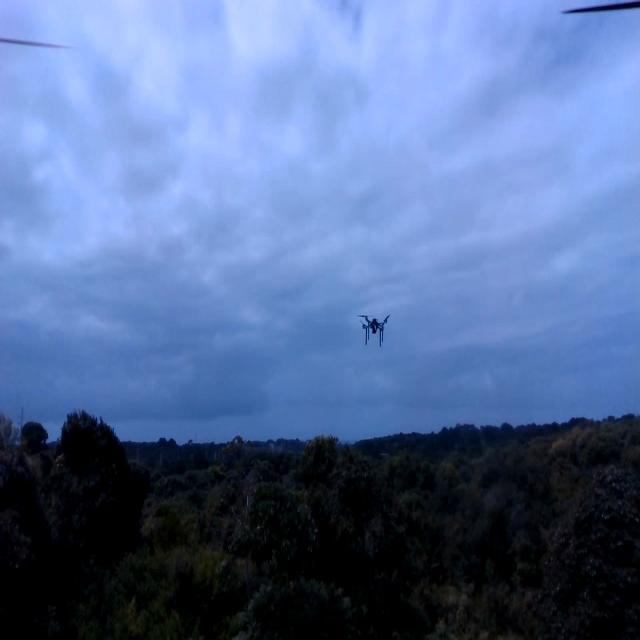-uav-: (352, 302, 398, 357)
